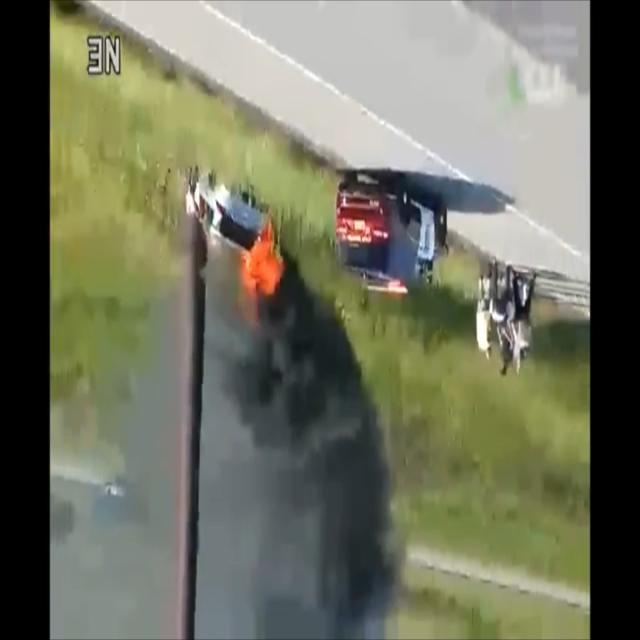fire: (238, 221, 288, 301)
